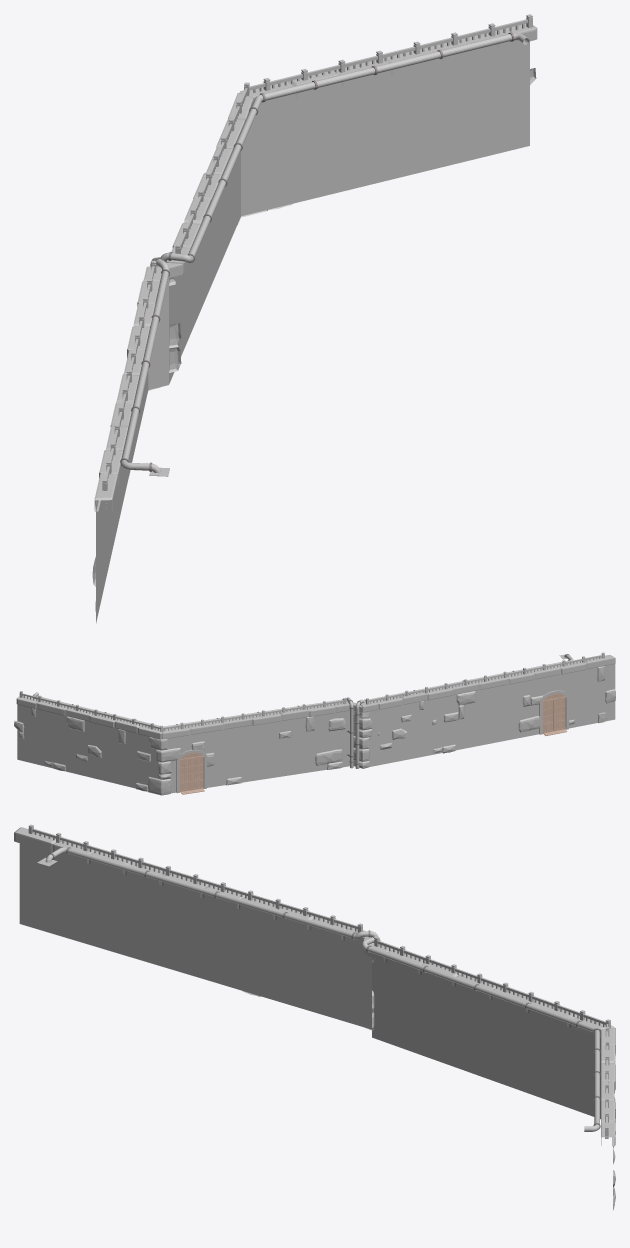
File: SM_ENV_KNVLLG_Wall_10.mo.fbx
3 renders of one model, top to bottom at view 1: azimuth 30°, elevation 25°; view 2: azimuth 150°, elevation 25°; view 3: azimuth 270°, elevation 25°, orthographic. The views are drawn at different scales.
Visible parts, largest first — view 1: SM_ENV_KNVLLG_Wall_10.mo; view 2: SM_ENV_KNVLLG_Wall_10.mo; view 3: SM_ENV_KNVLLG_Wall_10.mo.
Boxes of the visible parts, x1,y1,x2,y2 form: SM_ENV_KNVLLG_Wall_10.mo: [92, 14, 537, 623]; SM_ENV_KNVLLG_Wall_10.mo: [14, 652, 615, 795]; SM_ENV_KNVLLG_Wall_10.mo: [14, 824, 615, 1210].
Bounding box in the file's own units: 39.93 × 6.31 × 32.46.
